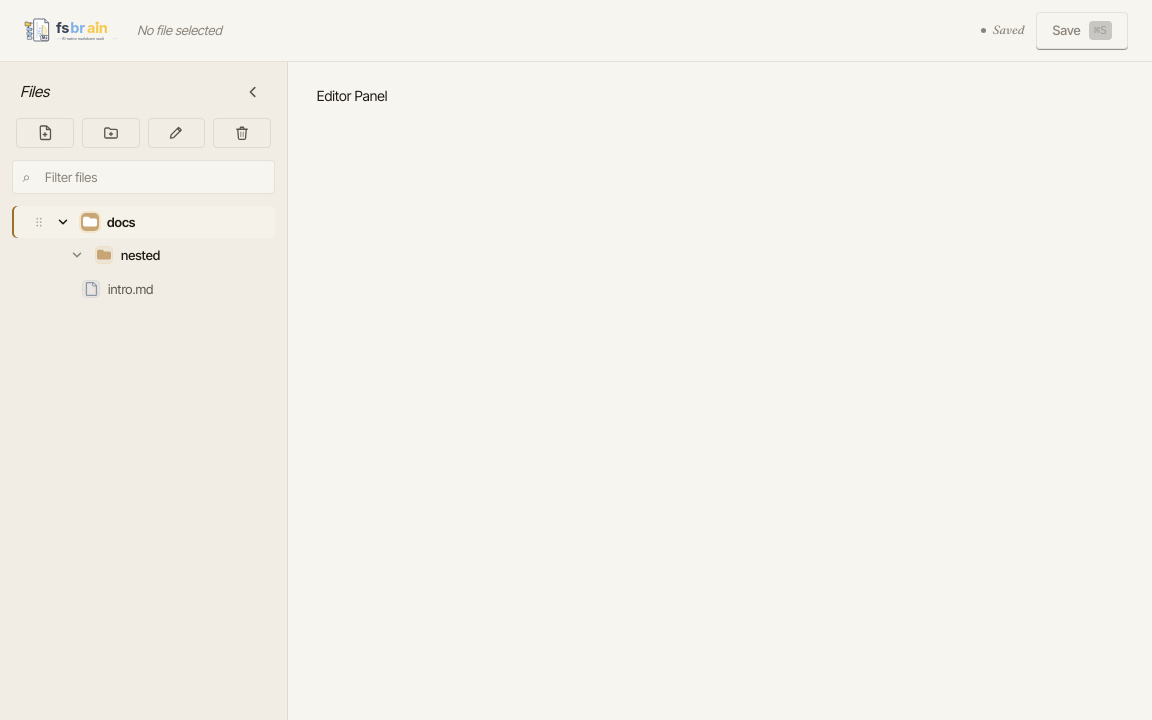
Test: GlobalLayout › renders a collapse button and hides sidebar content on click
Expected: the list is shown, [12, 206, 275, 304]
Step 1. Click the button named "Collapse sidebar" → (253, 92), box [239, 78, 267, 106]
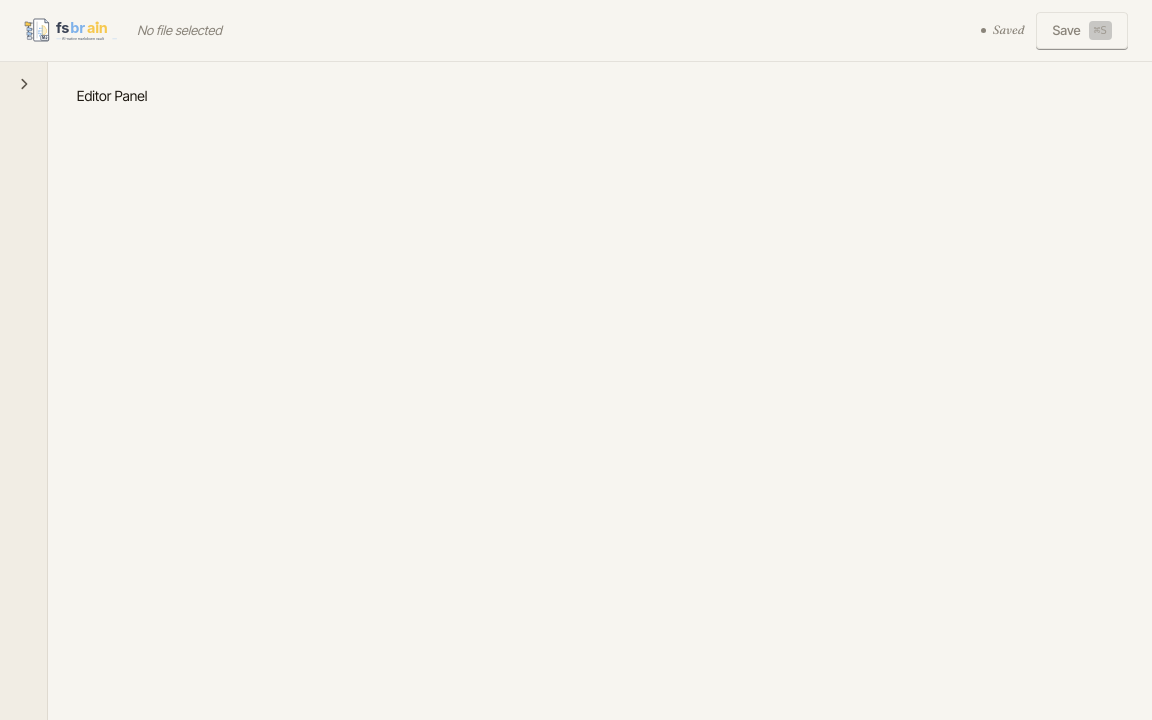
Expected: the field with placeholder "Filter files" is not shown
Now the button named "Expand sidebar" is shown, box [10, 70, 38, 98]
